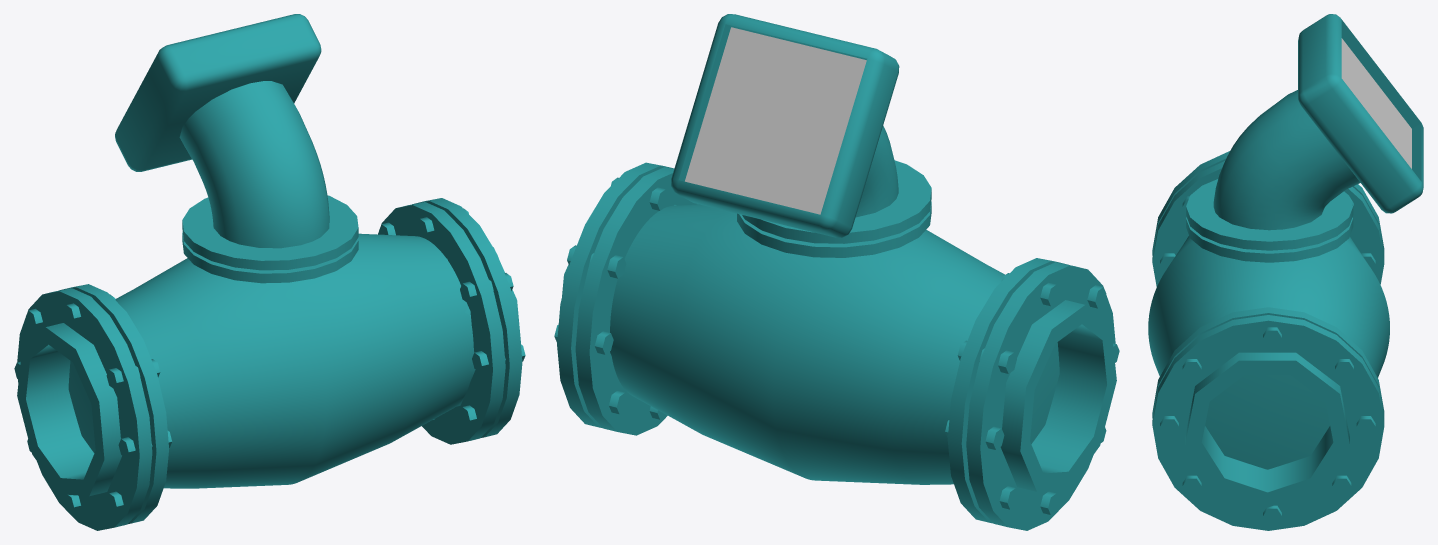
File: flowmeter.obj
The picture shows the model from 3 angles, left to right: view 1: azimuth 30°, elevation 25°; view 2: azimuth 150°, elevation 25°; view 3: azimuth 270°, elevation 25°; orthographic projection. The views are drawn at different scales.
Visible parts, largest first — view 1: __, __.1, ___, __.2, ___1; view 2: __, ___, __.1, __.2, ___1; view 3: __, __.2, ___, __.1, ___2.
Boxes of the visible parts, <box> form: __: <box>17,81,520,530</box>; __.1: <box>17,208,525,513</box>; ___: <box>115,14,321,171</box>; __.2: <box>59,198,522,523</box>; ___1: <box>14,219,481,513</box>; __: <box>562,125,1115,530</box>; ___: <box>671,14,899,237</box>; __.1: <box>554,177,1116,514</box>; __.2: <box>557,162,1069,523</box>; ___1: <box>602,189,1119,514</box>; __: <box>1148,90,1389,507</box>; __.2: <box>1152,161,1384,530</box>; ___: <box>1298,14,1423,213</box>; __.1: <box>1160,196,1375,515</box>; ___2: <box>1160,199,1375,523</box>.
Size of the model in its own units: 238 by 229 by 144.
